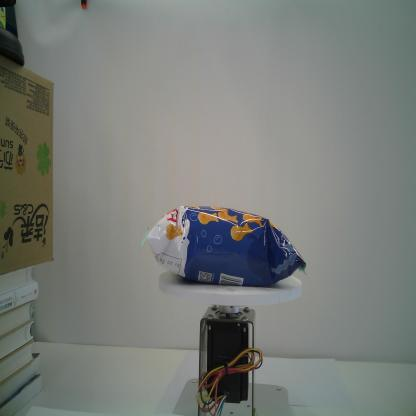Puffed Food: (141, 205, 307, 289)
